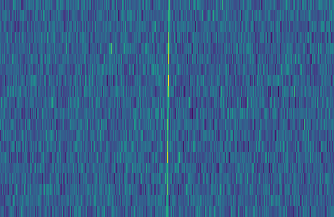signal: (162, 0, 173, 217)
